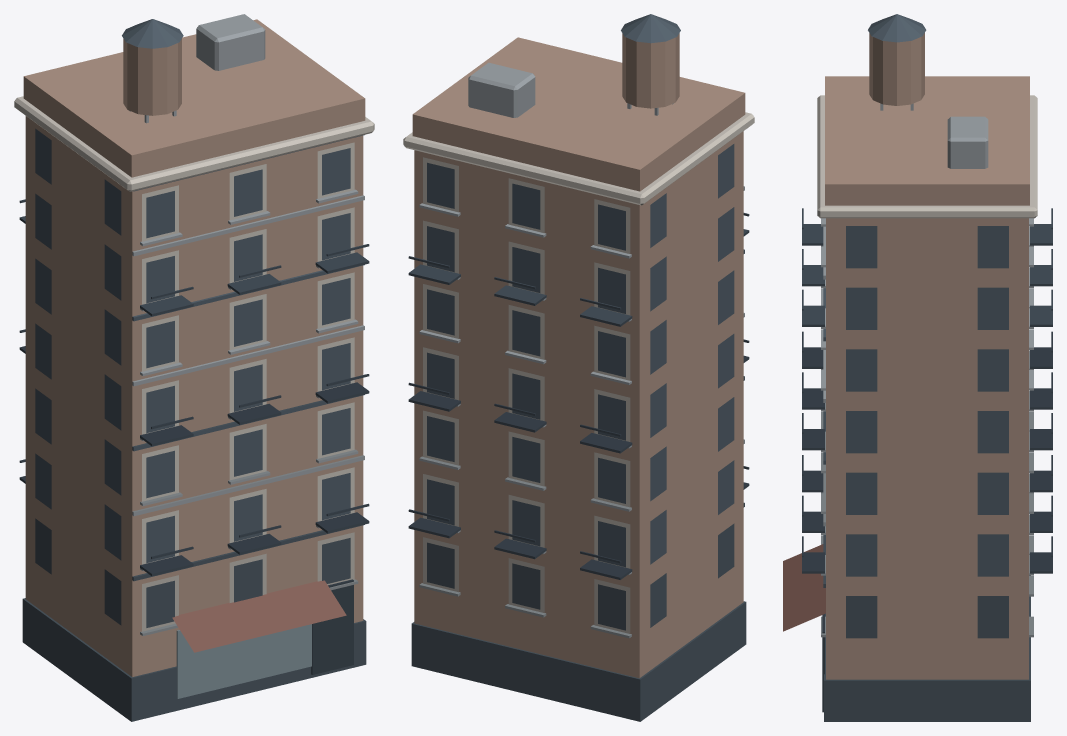
The model's file is edificio_residential.glb.
3 views of the same model, side by side, from view 1: azimuth 30°, elevation 25°; view 2: azimuth 150°, elevation 25°; view 3: azimuth 270°, elevation 25° (orthographic). The views are drawn at different scales.
Bounding box in the file's own units: 5.35 × 13.65 × 5.32.
